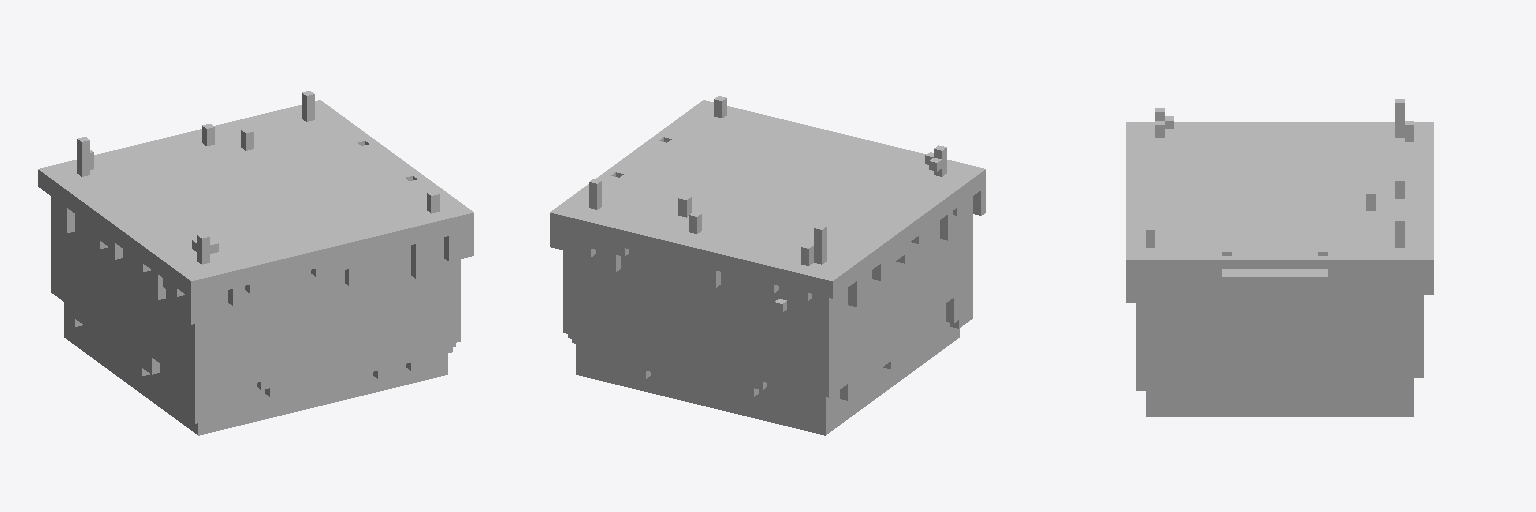
Rendered from island.obj.
The picture shows the model from 3 angles: view 1: azimuth 30°, elevation 25°; view 2: azimuth 150°, elevation 25°; view 3: azimuth 270°, elevation 25°; orthographic projection.
Visible parts, largest first — view 1: object 1; view 2: object 1; view 3: object 1.
Part boxes in pixels (x1,y1,x2,y2): object 1: (38,91,473,435); object 1: (550,96,985,435); object 1: (1126,99,1433,416).
Size of the model in its own units: 3.4 by 2.3 by 3.2.